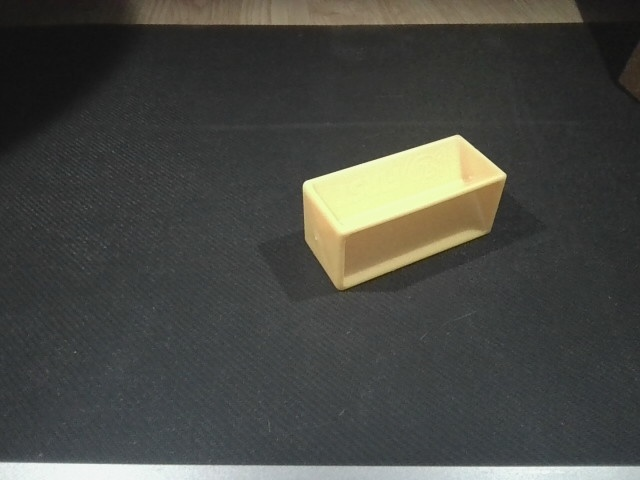YellowSample: (298, 131, 509, 295)
